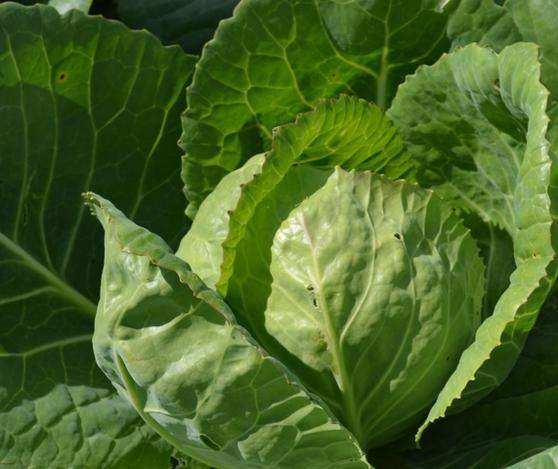cabbage: (112, 134, 489, 448)
